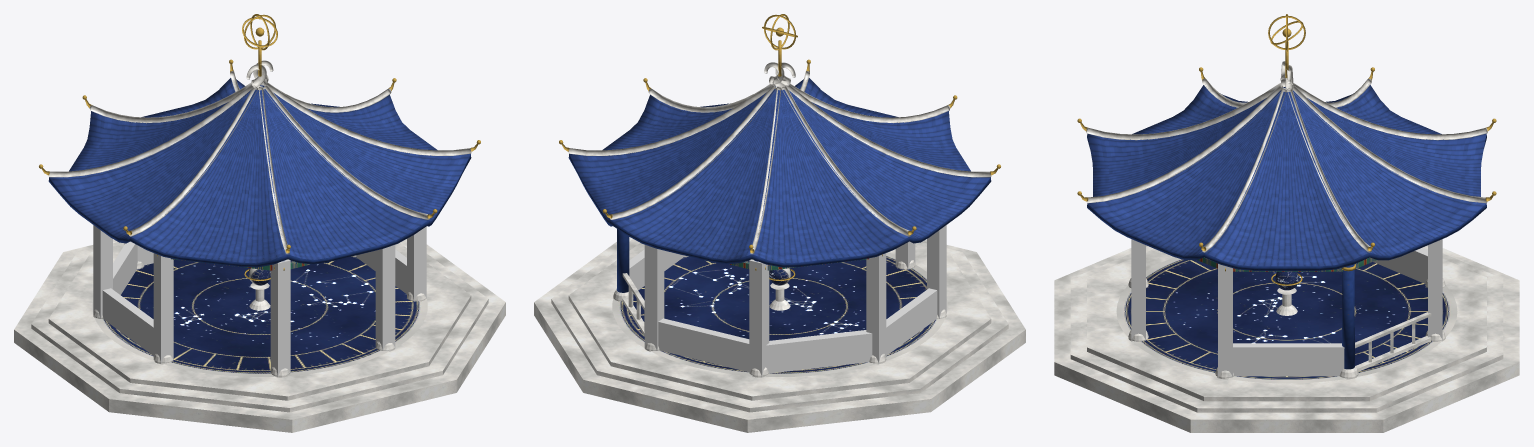
File: star_pavilion.glb
3 renders of one model, left to right at view 1: azimuth 30°, elevation 25°; view 2: azimuth 150°, elevation 25°; view 3: azimuth 270°, elevation 25°, orthographic.
Parts seen in each view (by area): view 1: StarRoof, PavilionBase, StarFloor, StarRoofRidges, PavilionColumn-convcolonly.005, PavilionColumn-convcolonly.004, PavilionColumn-convcolonly.006, PavilionRail-convcolonly.003, PavilionColumn-convcolonly.003, PavilionColumn-convcolonly.007, PavilionColumnBases, PavilionRail-convcolonly.002 (+2 smaller); view 2: StarRoof, PavilionBase, StarFloor, StarRoofRidges, PavilionRail-convcolonly.002, PavilionRail-convcolonly.001, PavilionColumn-convcolonly.002, PavilionColumn-convcolonly.003, PavilionColumn-convcolonly.001, PavilionRail-convcolonly.003, PavilionColumn-convcolonly.004, PavilionColumnBases (+4 smaller); view 3: StarRoof, PavilionBase, StarFloor, StarRoofRidges, PavilionRail-convcolonly.004, PavilionColumn-convcolonly.007, PavilionColumn-convcolonly.006, PavilionColumn-convcolonly.001, PavilionRails, PavilionColumns, PavilionColumnBases, PavilionRail-convcolonly.002 (+1 smaller).
Boxes of the visible parts, x1,y1,x2,y2 form: StarRoof: [48, 78, 471, 267]; PavilionBase: [14, 239, 505, 432]; StarFloor: [92, 256, 427, 376]; StarRoofRidges: [48, 60, 471, 254]; PavilionColumn-convcolonly.005: [270, 259, 290, 377]; PavilionColumn-convcolonly.004: [153, 253, 173, 363]; PavilionColumn-convcolonly.006: [375, 245, 395, 350]; PavilionRail-convcolonly.003: [102, 288, 153, 355]; PavilionColumn-convcolonly.003: [93, 225, 112, 318]; PavilionColumn-convcolonly.007: [407, 226, 426, 301]; PavilionColumnBases: [93, 255, 426, 377]; PavilionRail-convcolonly.002: [113, 241, 137, 294]; StarRoof: [568, 78, 991, 267]; PavilionBase: [534, 237, 1025, 432]; StarFloor: [612, 252, 947, 376]; StarRoofRidges: [568, 62, 991, 254]; PavilionRail-convcolonly.002: [766, 330, 872, 373]; PavilionRail-convcolonly.001: [658, 318, 749, 372]; PavilionColumn-convcolonly.002: [749, 259, 769, 377]; PavilionColumn-convcolonly.003: [866, 253, 886, 363]; PavilionColumn-convcolonly.001: [644, 245, 664, 350]; PavilionRail-convcolonly.003: [886, 288, 937, 355]; PavilionColumn-convcolonly.004: [927, 225, 946, 318]; PavilionColumnBases: [613, 255, 946, 377]; StarRoof: [1087, 85, 1486, 270]; PavilionBase: [1054, 245, 1519, 432]; StarFloor: [1116, 257, 1457, 383]; StarRoofRidges: [1086, 61, 1487, 252]; PavilionRail-convcolonly.004: [1233, 343, 1344, 376]; PavilionColumn-convcolonly.007: [1218, 264, 1232, 378]; PavilionColumn-convcolonly.006: [1131, 239, 1145, 340]; PavilionColumn-convcolonly.001: [1428, 239, 1442, 340]; PavilionRails: [1355, 312, 1431, 371]; PavilionColumns: [1342, 264, 1354, 369]; PavilionColumnBases: [1128, 278, 1445, 379]; PavilionRail-convcolonly.002: [1373, 248, 1427, 283].
Size of what is drawn, in the model's own units: 14.2 by 10.73 by 14.2.
8 materials, 8 textured.
